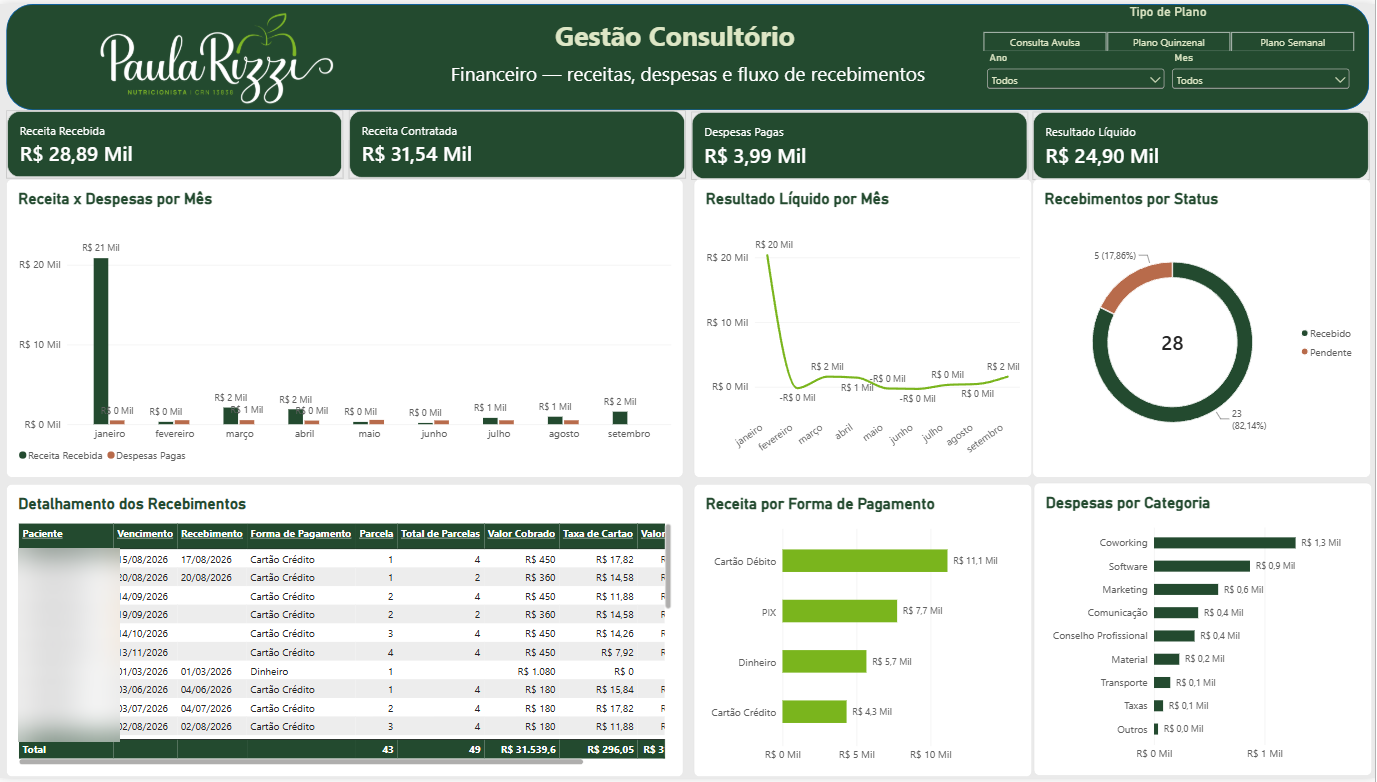

This screenshot's page, from the dashboard's own definition file:
{"tool":"powerbi","page":{"name":"Financeiro","canvas":[1920,1080],"ordinal":3},"visuals":[{"type":"shape","box":[9.4,0,1901.9,148.1],"z":0},{"type":"cardVisual","fields":{"Data":["Medidas.Receita Recebida"]},"box":[8.7,149,470,95],"z":1000},{"type":"image","box":[88.9,1.6,427.1,148.1],"z":2000},{"type":"cardVisual","fields":{"Data":["Medidas.Receita Contratada"]},"box":[486.3,149,470,95],"z":3000},{"type":"textbox","box":[774.8,18.7,347.9,51.5],"z":4000},{"type":"cardVisual","fields":{"Data":["Medidas.Despesas Pagas"]},"box":[963.8,149.4,470,95],"z":5000},{"type":"textbox","box":[547.1,78.9,824.3,60.6],"z":6000},{"type":"cardVisual","fields":{"Data":["Medidas.Resultado Líquido"]},"box":[1441.3,149.4,470,95],"z":7000},{"type":"slicer","title":"Ano","fields":{"Values":["Calendario.Ano"]},"box":[1373.4,65.5,257,73.3],"z":8000},{"type":"slicer","fields":{"Values":["Calendario.Mes"]},"box":[1630.6,65.5,257,73.3],"z":9000},{"type":"slicer","title":"Tipo de Plano","fields":{"Values":["Planos_Contratos.Tipo_Plano"]},"box":[1351.6,0,556.5,65.5],"z":10000},{"type":"clusteredColumnChart","title":"Receita x Despesas por Mês","fields":{"Category":["Calendario.Mes"],"Y":["Medidas.Receita Recebida","Medidas.Despesas Pagas"]},"box":[9.2,244.2,945,417],"z":11000},{"type":"lineChart","title":"Resultado Líquido por Mês","fields":{"Category":["Calendario.Mes"],"Y":["Medidas.Resultado Líquido"]},"box":[967.5,244.2,472,417],"z":12000},{"type":"clusteredBarChart","title":"Receita por Forma de Pagamento","fields":{"Category":["Recebimentos.Forma_Pagamento"],"Y":["Medidas.Receita Recebida"]},"box":[967.5,670.1,472,409],"z":13000},{"type":"clusteredBarChart","title":"Despesas por Categoria","fields":{"Category":["Despesas.Categoria"],"Y":["Medidas.Despesas Pagas"]},"box":[1443,668.3,472,409],"z":14000},{"type":"donutChart","title":"Recebimentos por Status","fields":{"Category":["Recebimentos.Status"],"Y":["Medidas.Total Recebimentos"]},"box":[1441.2,244.2,472,417],"z":15000},{"type":"tableEx","title":"Detalhamento dos Recebimentos","fields":{"Values":["Recebimentos.Paciente","Recebimentos.Data_Vencimento","Recebimentos.Data_Recebimento","Recebimentos.Forma_Pagamento","Sum(Recebimentos.Parcela)","Sum(Recebimentos.Total_Parcelas)","Sum(Recebimentos.Valor_Cobrado)","Sum(Recebimentos.Taxa_Cartao)","Sum(Recebimentos.Valor_Liquido)","Recebimentos.Status"]},"box":[9,670,945,409],"z":16000}]}

Visuals, with their boxes in screenshot pixels (x1, y1, x2, y2), scaled from the page's 1920x1080 canvas onto the 1377x782 screenshot:
shape: {"x1": 7, "y1": 0, "x2": 1371, "y2": 107}
cardVisual - Medidas.Receita Recebida: {"x1": 6, "y1": 108, "x2": 343, "y2": 177}
image: {"x1": 64, "y1": 1, "x2": 370, "y2": 108}
cardVisual - Medidas.Receita Contratada: {"x1": 349, "y1": 108, "x2": 686, "y2": 177}
textbox: {"x1": 556, "y1": 14, "x2": 805, "y2": 51}
cardVisual - Medidas.Despesas Pagas: {"x1": 691, "y1": 108, "x2": 1028, "y2": 177}
textbox: {"x1": 392, "y1": 57, "x2": 984, "y2": 101}
cardVisual - Medidas.Resultado Líquido: {"x1": 1034, "y1": 108, "x2": 1371, "y2": 177}
"Ano" slicer: {"x1": 985, "y1": 47, "x2": 1169, "y2": 101}
slicer - Calendario.Mes: {"x1": 1169, "y1": 47, "x2": 1354, "y2": 101}
"Tipo de Plano" slicer: {"x1": 969, "y1": 0, "x2": 1368, "y2": 47}
"Receita x Despesas por Mês" clusteredColumnChart: {"x1": 7, "y1": 177, "x2": 684, "y2": 479}
"Resultado Líquido por Mês" lineChart: {"x1": 694, "y1": 177, "x2": 1032, "y2": 479}
"Receita por Forma de Pagamento" clusteredBarChart: {"x1": 694, "y1": 485, "x2": 1032, "y2": 781}
"Despesas por Categoria" clusteredBarChart: {"x1": 1035, "y1": 484, "x2": 1373, "y2": 780}
"Recebimentos por Status" donutChart: {"x1": 1034, "y1": 177, "x2": 1372, "y2": 479}
"Detalhamento dos Recebimentos" tableEx: {"x1": 6, "y1": 485, "x2": 684, "y2": 781}
